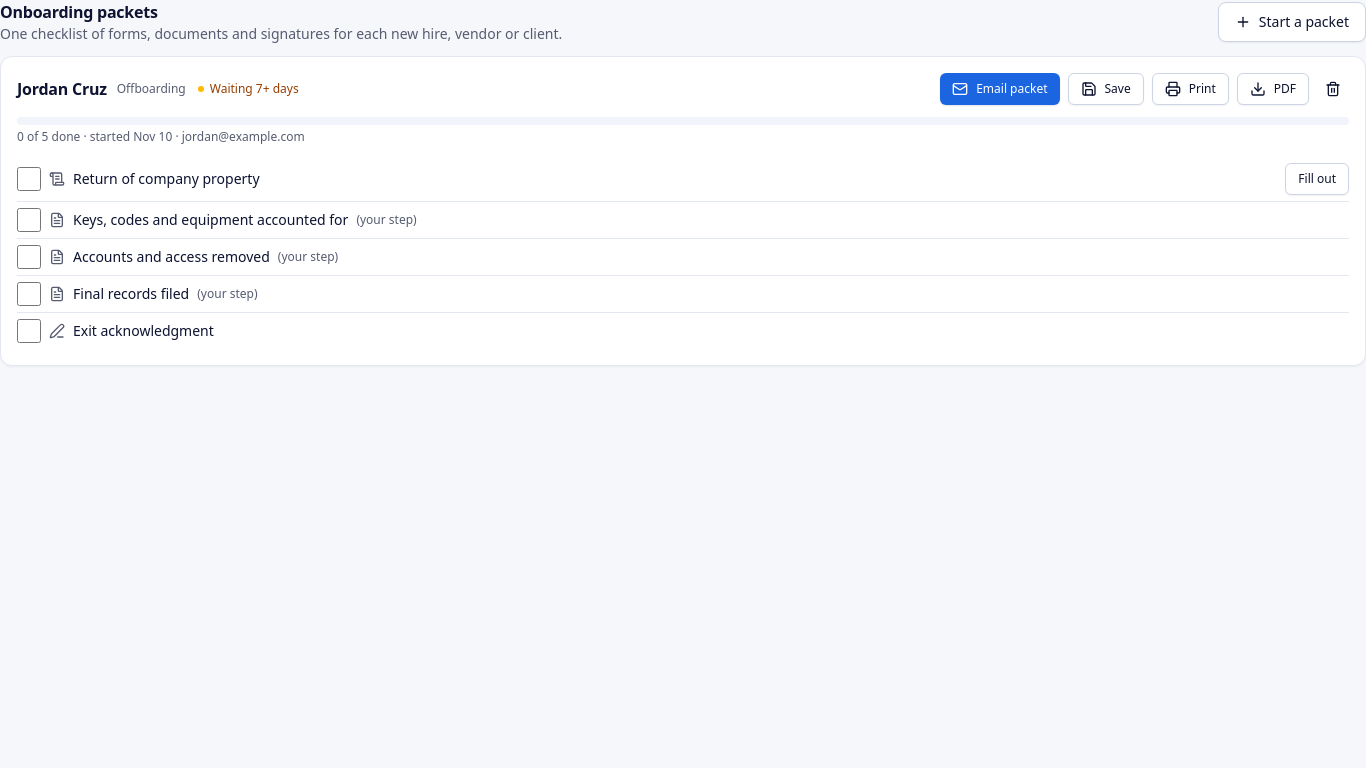
Scenario: Packets: emailing and reminders › marks the business's own steps, and offers the new packets
The width and height of the screenshot is (1366, 768).
Check: the text "(your step)" is shown 3 times, box [356,212,417,228]; [278,249,338,265]; [197,286,258,302]
Click the button "Start a packet". click: (1292,22)
box: [1218,2,1365,42]
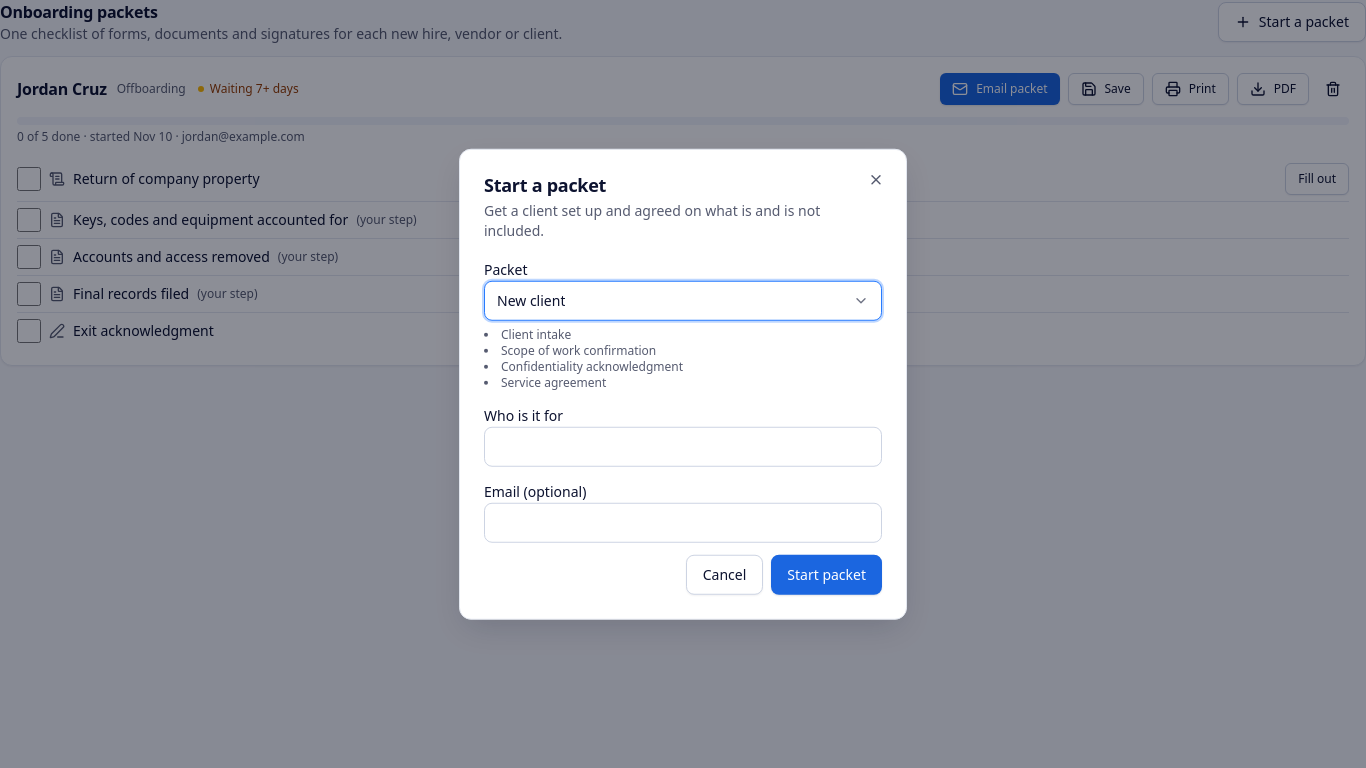
Click the dropdown named "Packet". click: (531,300)
box: [484,280,882,320]
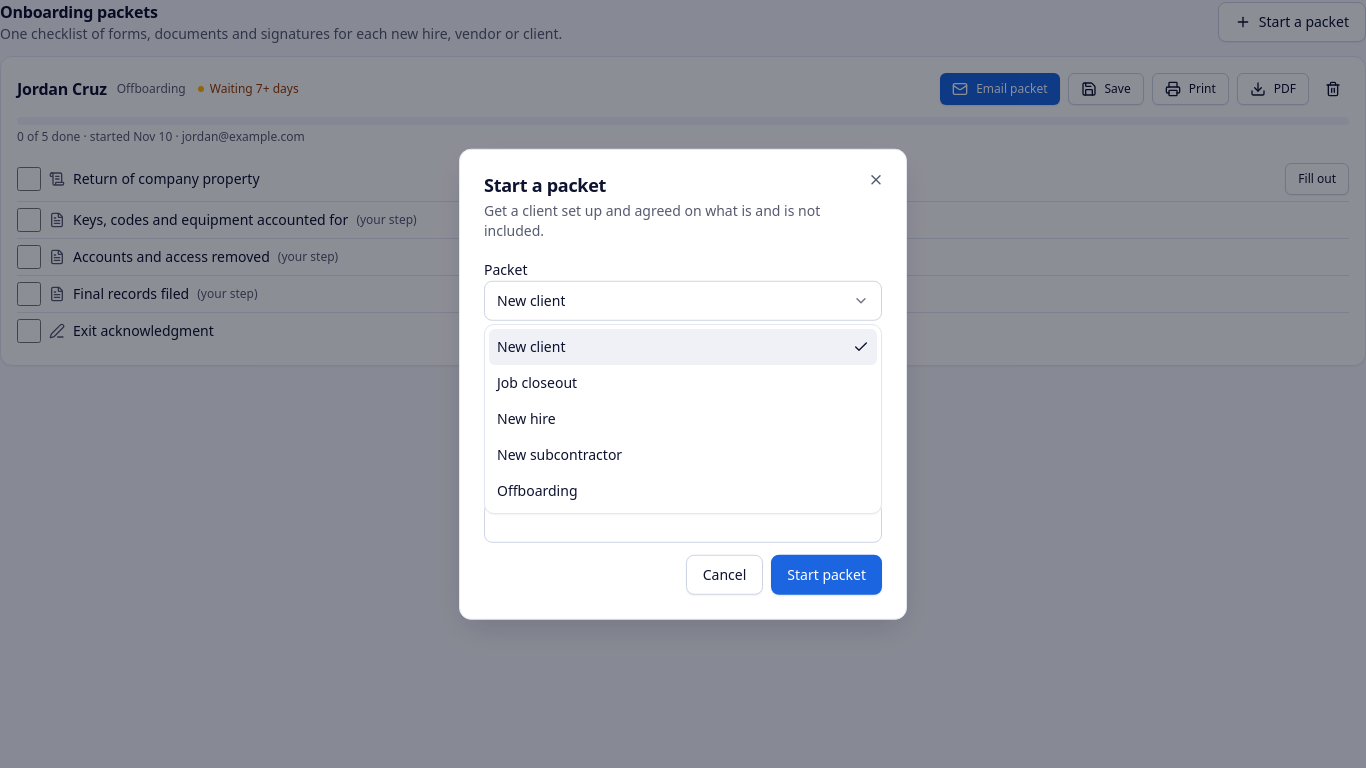
Check: the option "New hire" is shown, box [497,409,556,428]
Check: the option "New subcontractor" is shown, box [497,445,622,464]
Check: the option "Offboarding" is shown, box [497,481,578,500]
